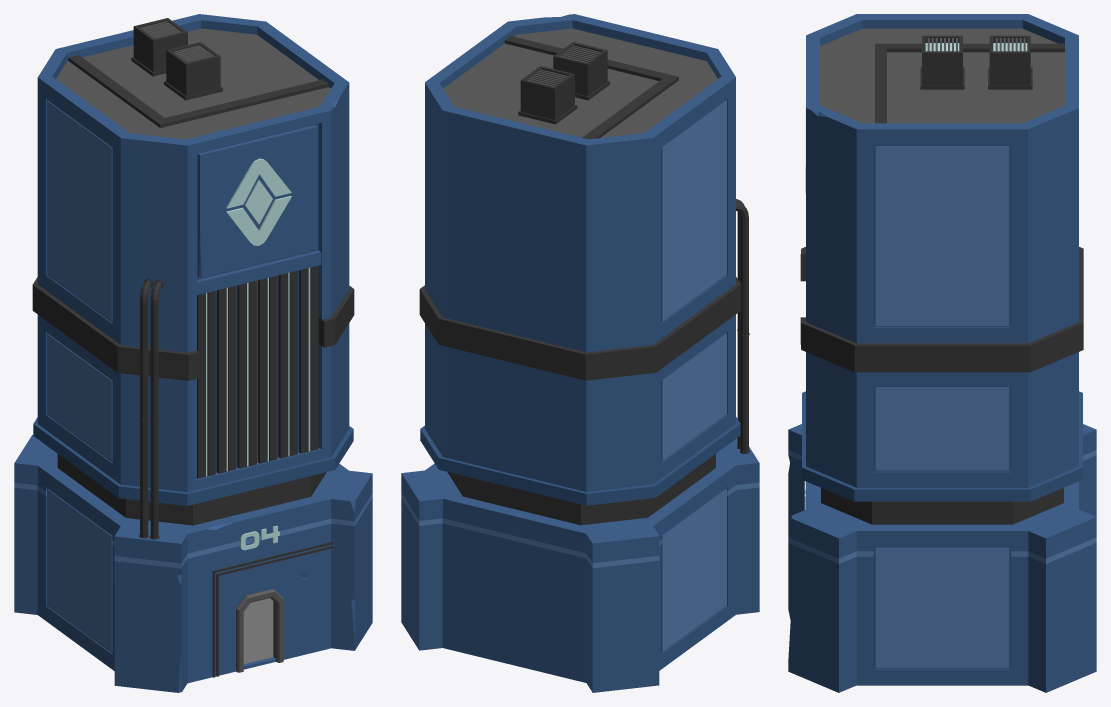
The model's file is SM_Building_10.fbx.
The picture shows the model from 3 angles, left to right: view 1: azimuth 30°, elevation 25°; view 2: azimuth 150°, elevation 25°; view 3: azimuth 270°, elevation 25°; orthographic projection. The views are drawn at different scales.
Parts seen in each view (by area): view 1: SM_Building_10; view 2: SM_Building_10; view 3: SM_Building_10.
Part boxes in pixels (box(x1,y1,x2,y2)): SM_Building_10: box(14, 14, 372, 692); SM_Building_10: box(401, 14, 759, 692); SM_Building_10: box(788, 14, 1096, 692).
Size of the model in its own units: 904 by 1889 by 904.
